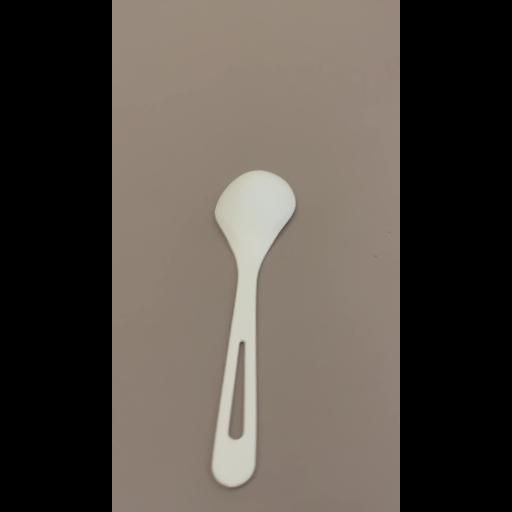utensil: (192, 160, 310, 492)
